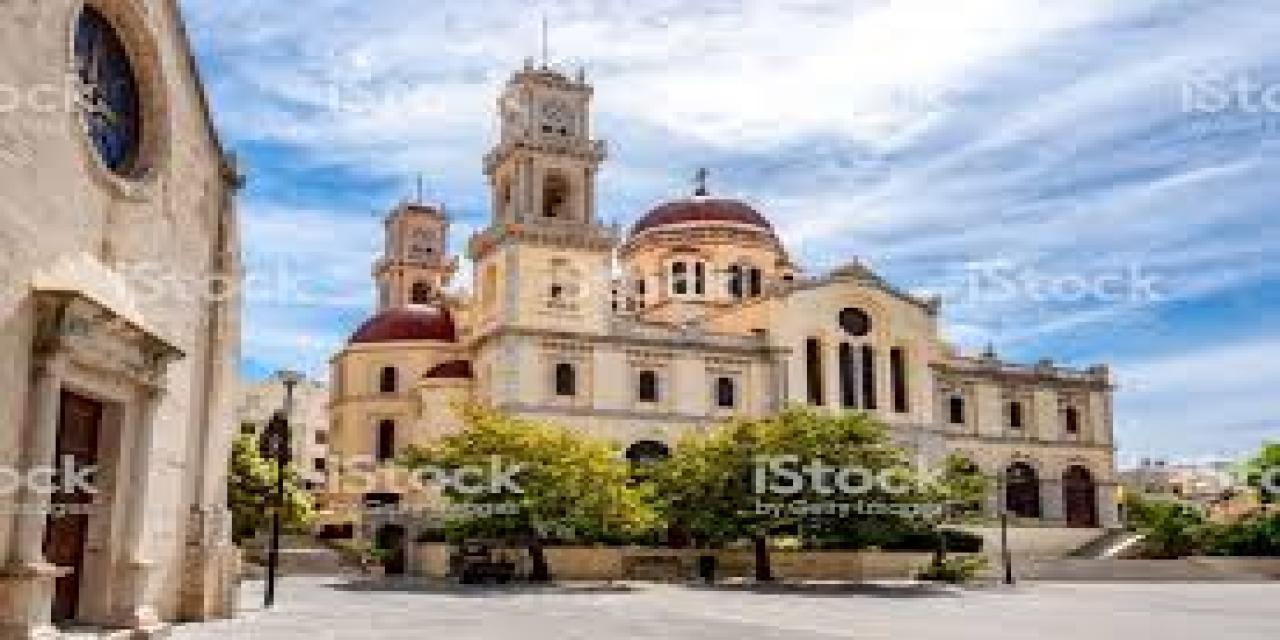Agios Minas: (311, 47, 1119, 538)
